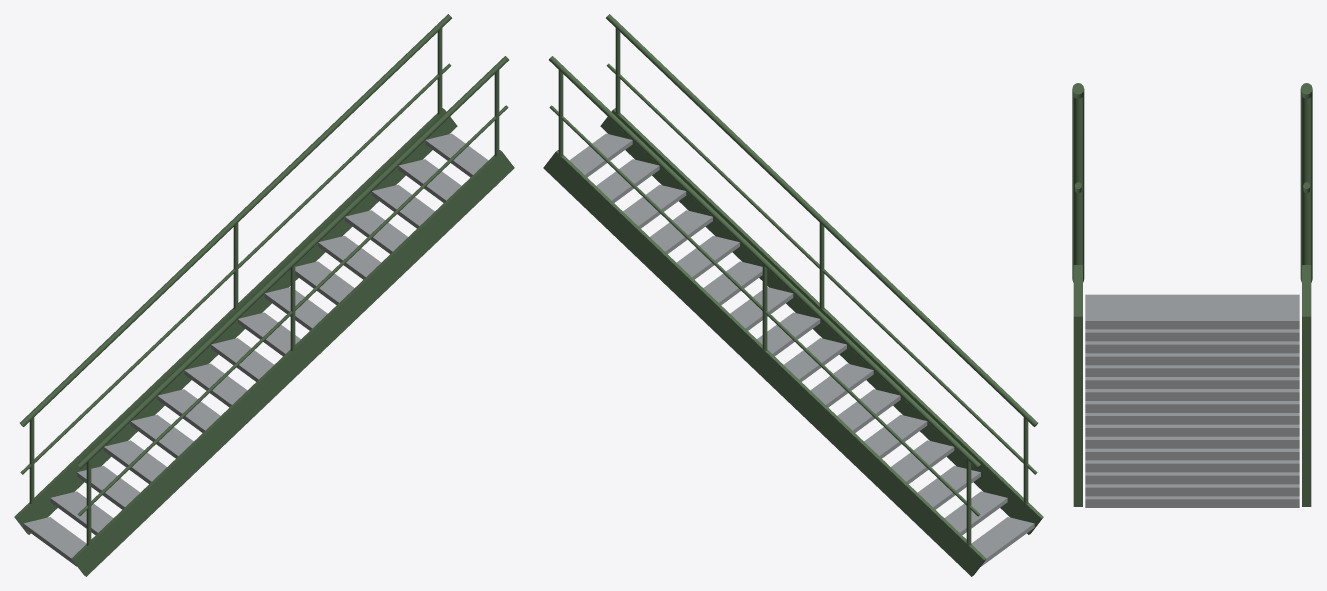
The model's file is str-012.glb.
The picture shows the model from 3 angles, left to right: view 1: azimuth 30°, elevation 25°; view 2: azimuth 150°, elevation 25°; view 3: azimuth 270°, elevation 25°; orthographic projection. The views are drawn at different scales.
Parts seen in each view (by area): view 1: rail_green, prison_floor; view 2: rail_green, prison_floor; view 3: prison_floor, rail_green.
Part boxes in pixels (x1,y1,x2,y2): rail_green: (14,14,514,576); prison_floor: (23,133,488,566); rail_green: (543,14,1043,576); prison_floor: (569,133,1034,566); prison_floor: (1085,294,1299,507); rail_green: (1072,83,1312,506).
Size of the model in its own units: 4.28 by 3.87 by 1.01.
